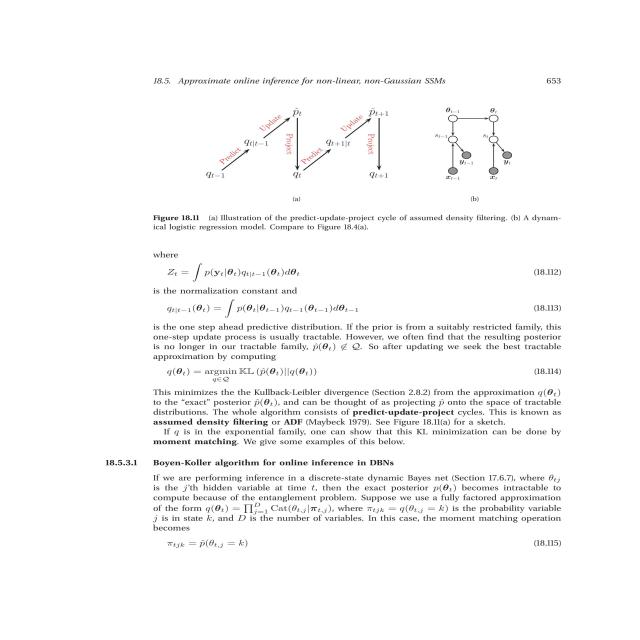diagram: (113, 90, 633, 236)
